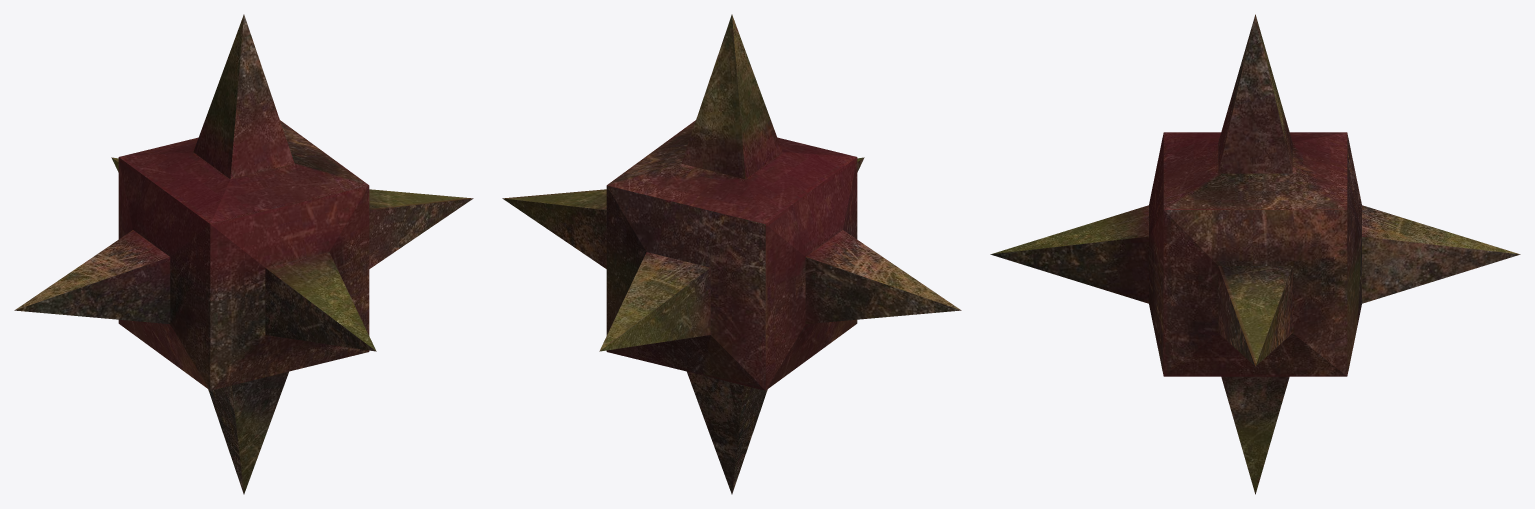
The model's file is PincheExportado.fbx.
3 renders of one model, left to right at view 1: azimuth 30°, elevation 25°; view 2: azimuth 150°, elevation 25°; view 3: azimuth 270°, elevation 25°, orthographic.
Parts seen in each view (by area): view 1: Cube; view 2: Cube; view 3: Cube.
Part boxes in pixels (<box>): Cube: <box>14,14,473,494</box>; Cube: <box>502,14,961,494</box>; Cube: <box>990,14,1520,494</box>.
Size of the model in its own units: 740 by 740 by 740.
